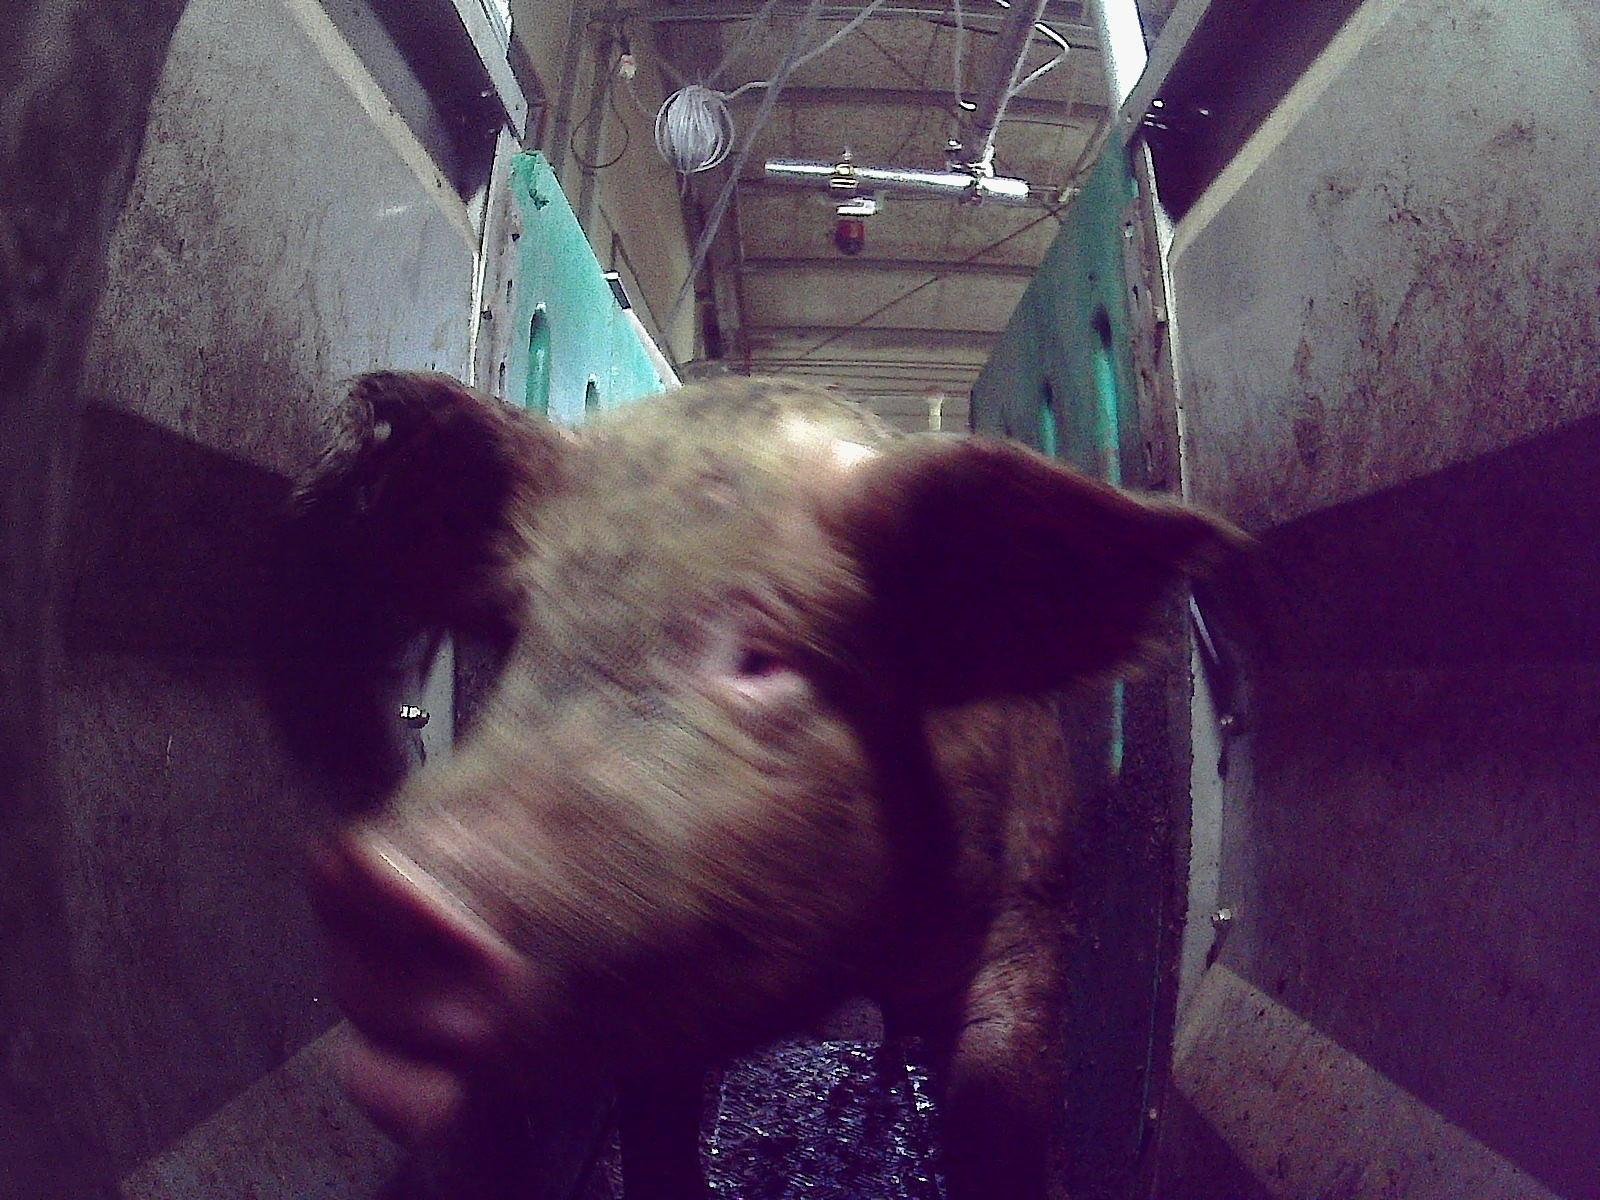Face: (309, 418, 920, 1086)
